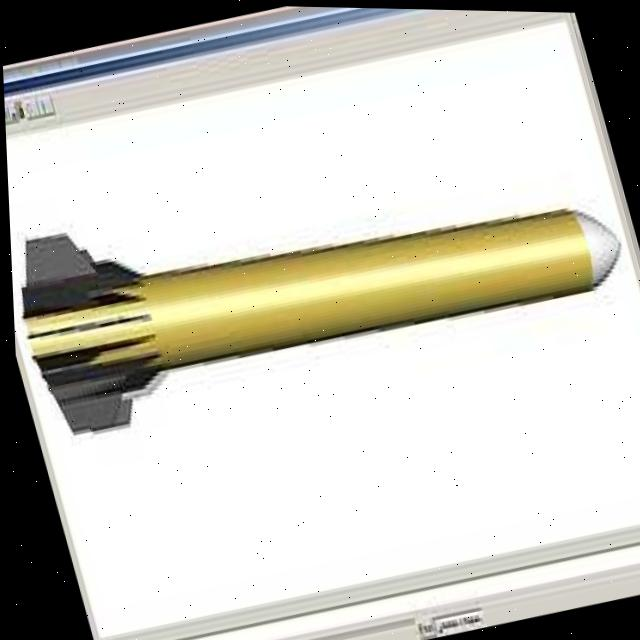missile: (3, 96, 640, 459)
